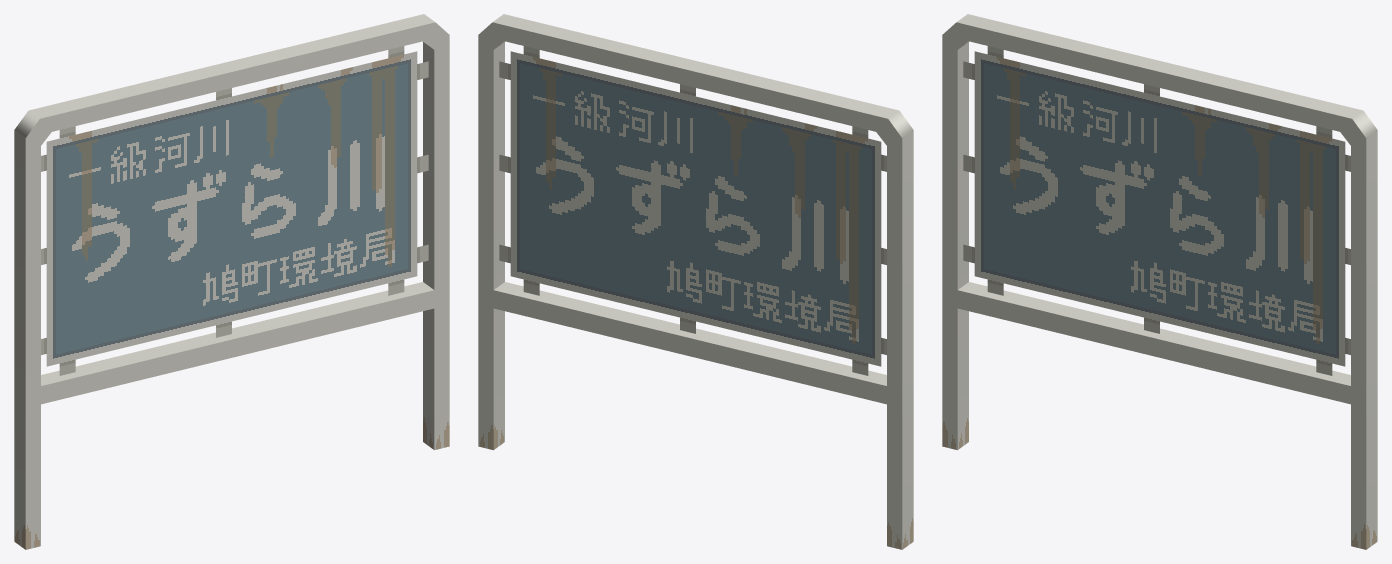
Rendered from 010b_Quail_River_Sign.glb.
The picture shows the model from 3 angles, left to right: view 1: azimuth 30°, elevation 25°; view 2: azimuth 150°, elevation 25°; view 3: azimuth 330°, elevation 25°; orthographic projection.
Visible parts, largest first — view 1: part_0; view 2: part_0; view 3: part_0.
Part boxes in pixels (x1,y1,x2,y2): part_0: (14, 14, 449, 549); part_0: (478, 14, 913, 549); part_0: (942, 14, 1377, 549).
Bounding box in the file's own units: 1.94 × 1.87 × 0.09.
1 material, 1 textured.
